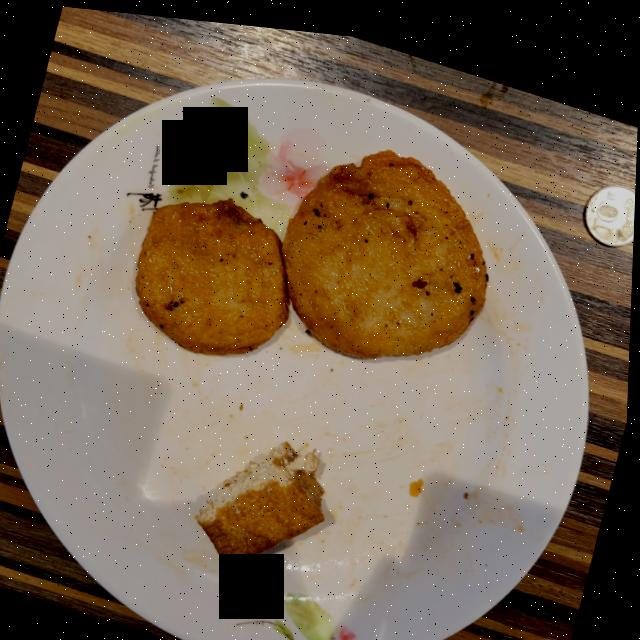coin: (585, 171, 636, 233)
egg tofu: (200, 435, 327, 561)
fish cake: (136, 141, 489, 350)
